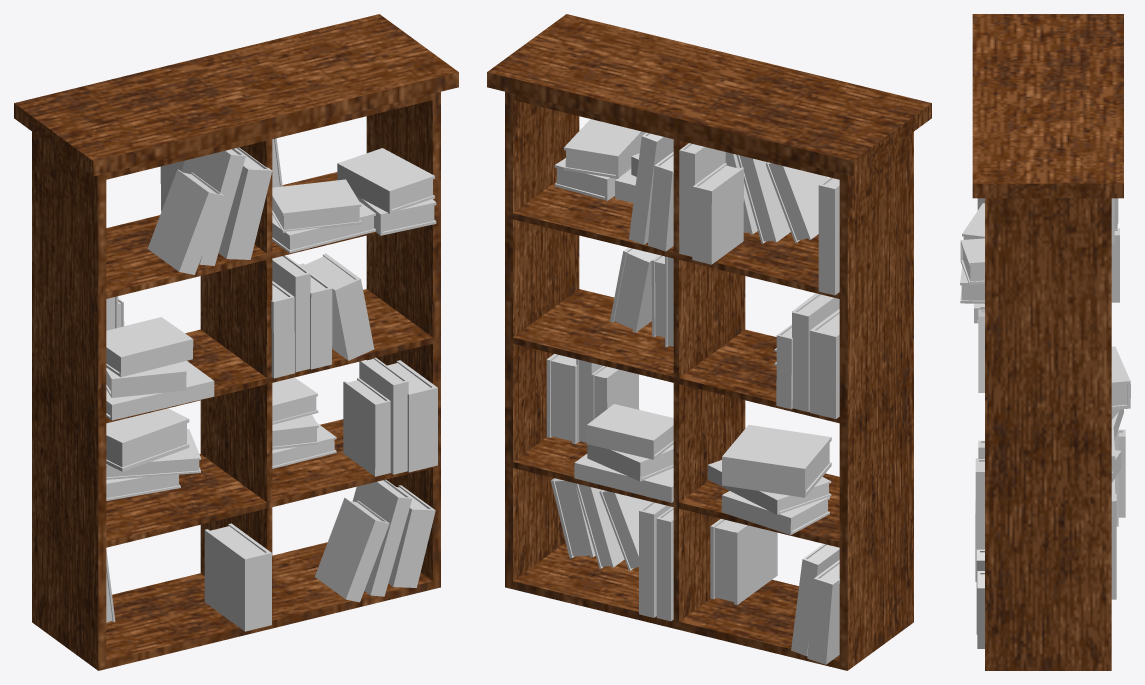
The model's file is SM_Dungeon_Bookshelf_Filled_Partially.fbx.
3 views of the same model, side by side, from view 1: azimuth 30°, elevation 25°; view 2: azimuth 150°, elevation 25°; view 3: azimuth 270°, elevation 25° (orthographic). The views are drawn at different scales.
Visible parts, largest first — view 1: SM_Dungeon_Bookshelf_Filled_Partially; view 2: SM_Dungeon_Bookshelf_Filled_Partially; view 3: SM_Dungeon_Bookshelf_Filled_Partially.
Boxes of the visible parts, x1=… form: SM_Dungeon_Bookshelf_Filled_Partially: x1=14, y1=14, x2=458, y2=670; SM_Dungeon_Bookshelf_Filled_Partially: x1=487, y1=14, x2=931, y2=670; SM_Dungeon_Bookshelf_Filled_Partially: x1=960, y1=14, x2=1130, y2=670.
Bounding box in the file's own units: 180 × 244 × 76.64.
